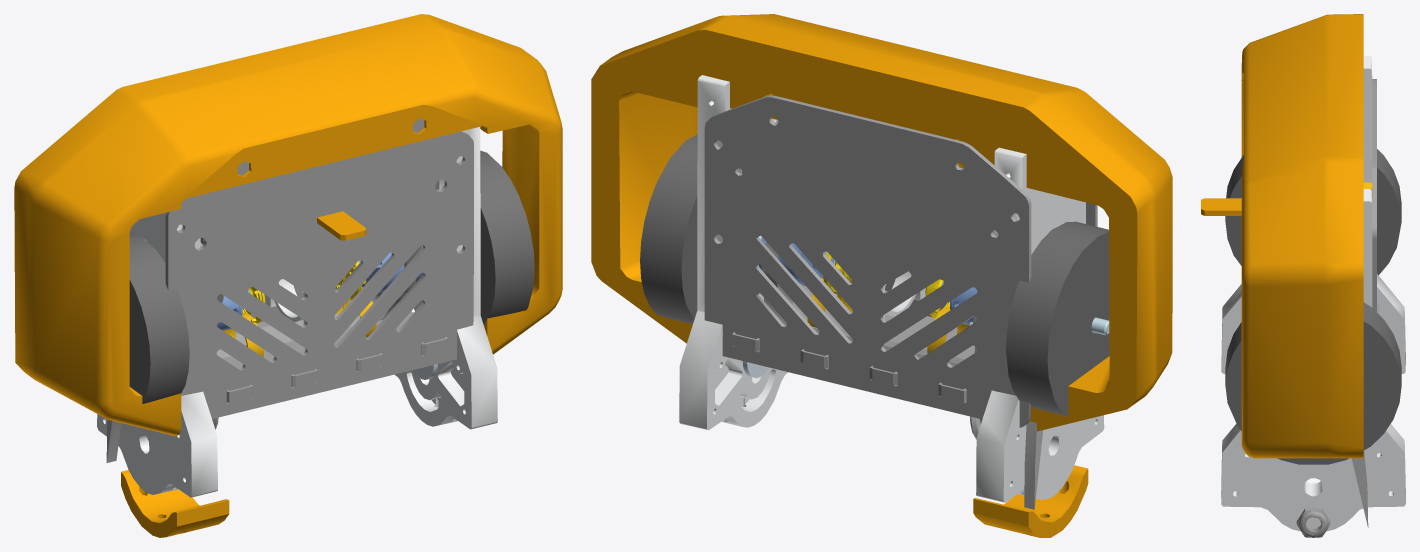
The model's file is sunday-scaries-opt.glb.
The picture shows the model from 3 angles, left to right: view 1: azimuth 30°, elevation 25°; view 2: azimuth 150°, elevation 25°; view 3: azimuth 270°, elevation 25°; orthographic projection. The views are drawn at different scales.
Parts seen in each view (by area): view 1: Motor_Caps_primitive0, NILN_Gr8_5-16_97135A225_primitive0, Rail_primitive0, 3"_Wheel_primitive0, Beater_primitive0; view 2: NILN_Gr8_5-16_97135A225_primitive0, Motor_Caps_primitive0, 3"_Wheel_primitive0, Rail_primitive0, 2"_Fork_primitive0, Beater_primitive0; view 3: Motor_Caps_primitive0, Rail_primitive0, 3"_Wheel_primitive0, NILN_Gr8_5-16_97135A225_primitive0, 2"_Fork_primitive0.
Boxes of the visible parts, x1,y1,x2,y2 form: Motor_Caps_primitive0: (14,14,562,537); NILN_Gr8_5-16_97135A225_primitive0: (165,118,473,418); Rail_primitive0: (97,127,497,497); 3"_Wheel_primitive0: (129,150,534,403); Beater_primitive0: (200,242,422,358); NILN_Gr8_5-16_97135A225_primitive0: (704,95,1097,427); Motor_Caps_primitive0: (591,14,1172,537); 3"_Wheel_primitive0: (640,134,1109,416); Rail_primitive0: (679,75,1104,502); 2"_Fork_primitive0: (1024,421,1043,509); Beater_primitive0: (762,242,977,366); Motor_Caps_primitive0: (1201,14,1363,458); Rail_primitive0: (1221,56,1405,531); 3"_Wheel_primitive0: (1225,149,1401,464); NILN_Gr8_5-16_97135A225_primitive0: (1296,79,1379,537); 2"_Fork_primitive0: (1351,451,1368,527).
Size of the model in its own units: 8202 by 6446 by 2904.
